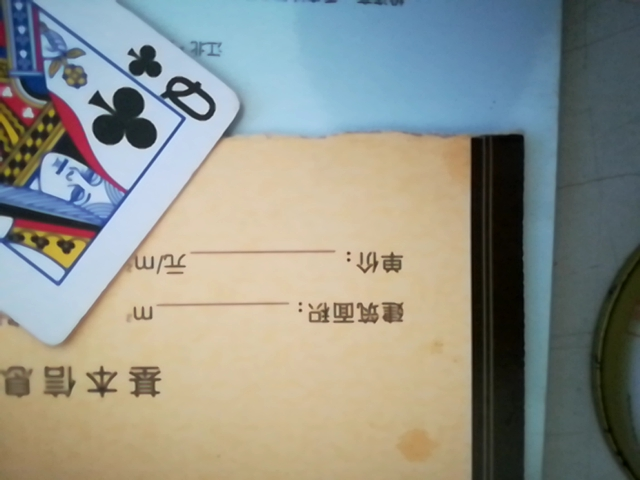mh q: (1, 0, 249, 349)
